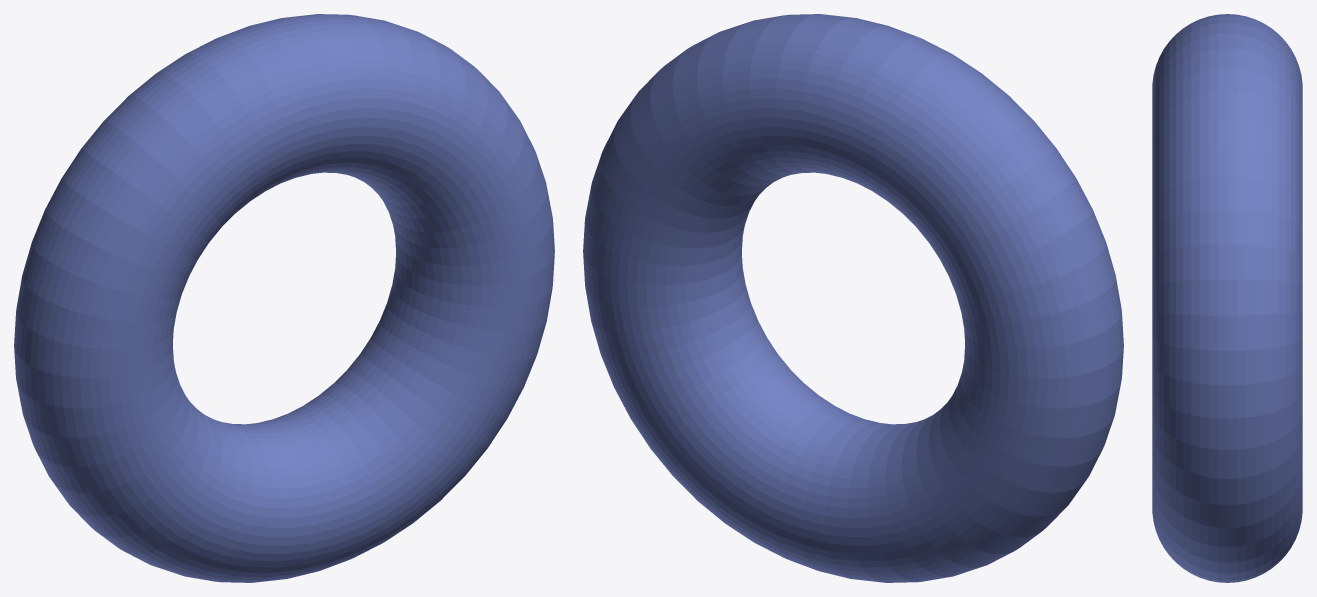
The picture shows the model from 3 angles, left to right: view 1: azimuth 30°, elevation 25°; view 2: azimuth 150°, elevation 25°; view 3: azimuth 270°, elevation 25°; orthographic projection. The views are drawn at different scales.
Parts seen in each view (by area): view 1: world; view 2: world; view 3: world.
Part boxes in pixels (x1,y1,x2,y2): world: [14, 14, 554, 582]; world: [583, 14, 1123, 582]; world: [1152, 14, 1302, 582].
Bounding box in the file's own units: 13.6 × 13.57 × 3.59.
